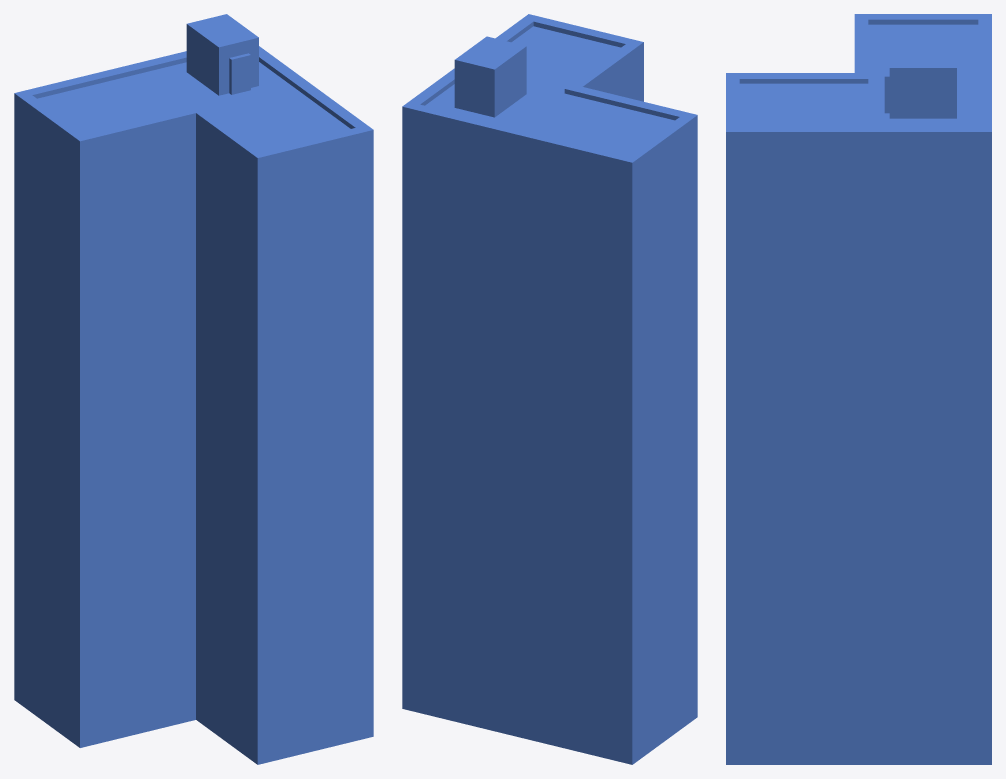
The model's file is Building3_blue.fbx.
The picture shows the model from 3 angles, left to right: view 1: azimuth 30°, elevation 25°; view 2: azimuth 150°, elevation 25°; view 3: azimuth 270°, elevation 25°; orthographic projection. The views are drawn at different scales.
Visible parts, largest first — view 1: Building 3; view 2: Building 3; view 3: Building 3.
Boxes of the visible parts, x1,y1,x2,y2 form: Building 3: (14,14,373,764); Building 3: (402,14,697,764); Building 3: (726,14,991,764).
Bounding box in the file's own units: 1368 × 3664 × 1302.
Materials: 1 (1 with a texture image).
